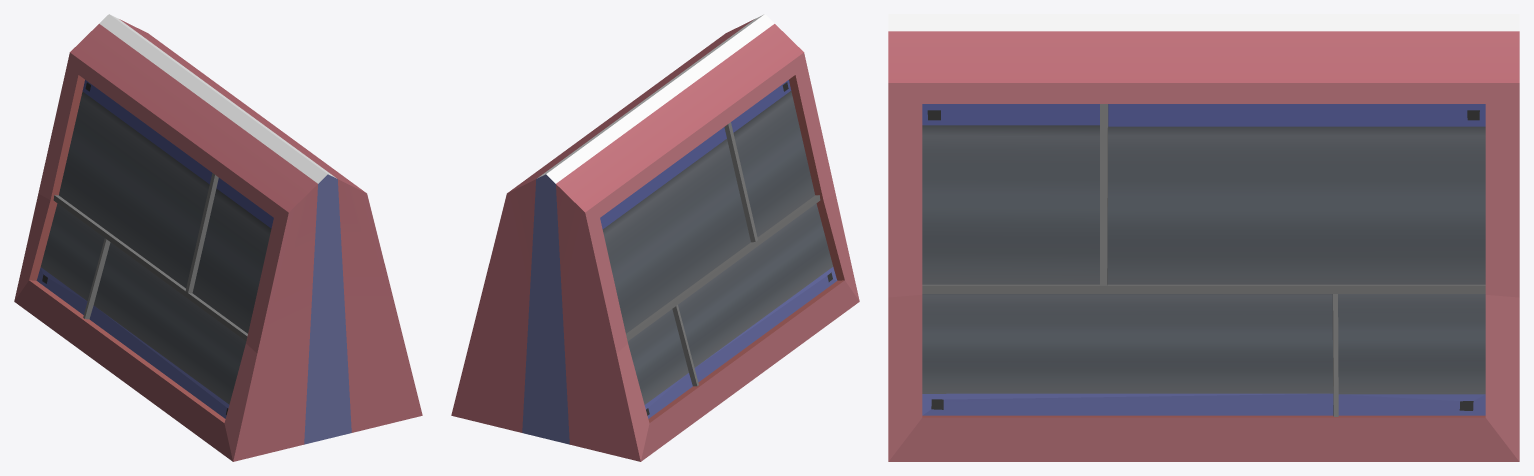
Rendered from 0_1_Wall_4.fbx.
3 renders of one model, left to right at view 1: azimuth 30°, elevation 25°; view 2: azimuth 150°, elevation 25°; view 3: azimuth 270°, elevation 25°, orthographic. The views are drawn at different scales.
Visible parts, largest first — view 1: 0_1_Wall_4; view 2: 0_1_Wall_4; view 3: 0_1_Wall_4.
Part boxes in pixels (box(x1,y1,x2,y2)): 0_1_Wall_4: box(14, 14, 422, 461); 0_1_Wall_4: box(451, 14, 859, 461); 0_1_Wall_4: box(888, 14, 1519, 461).
Bounding box in the file's own units: 187 × 250 × 375.
